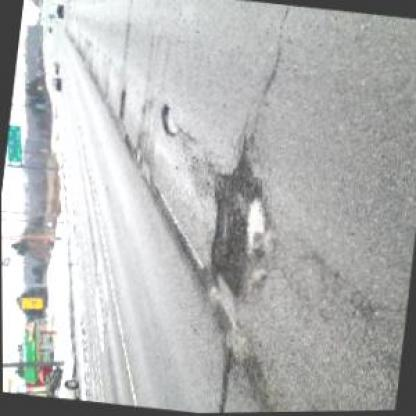pothole: (198, 154, 275, 304), (154, 98, 184, 138), (115, 88, 128, 120)
